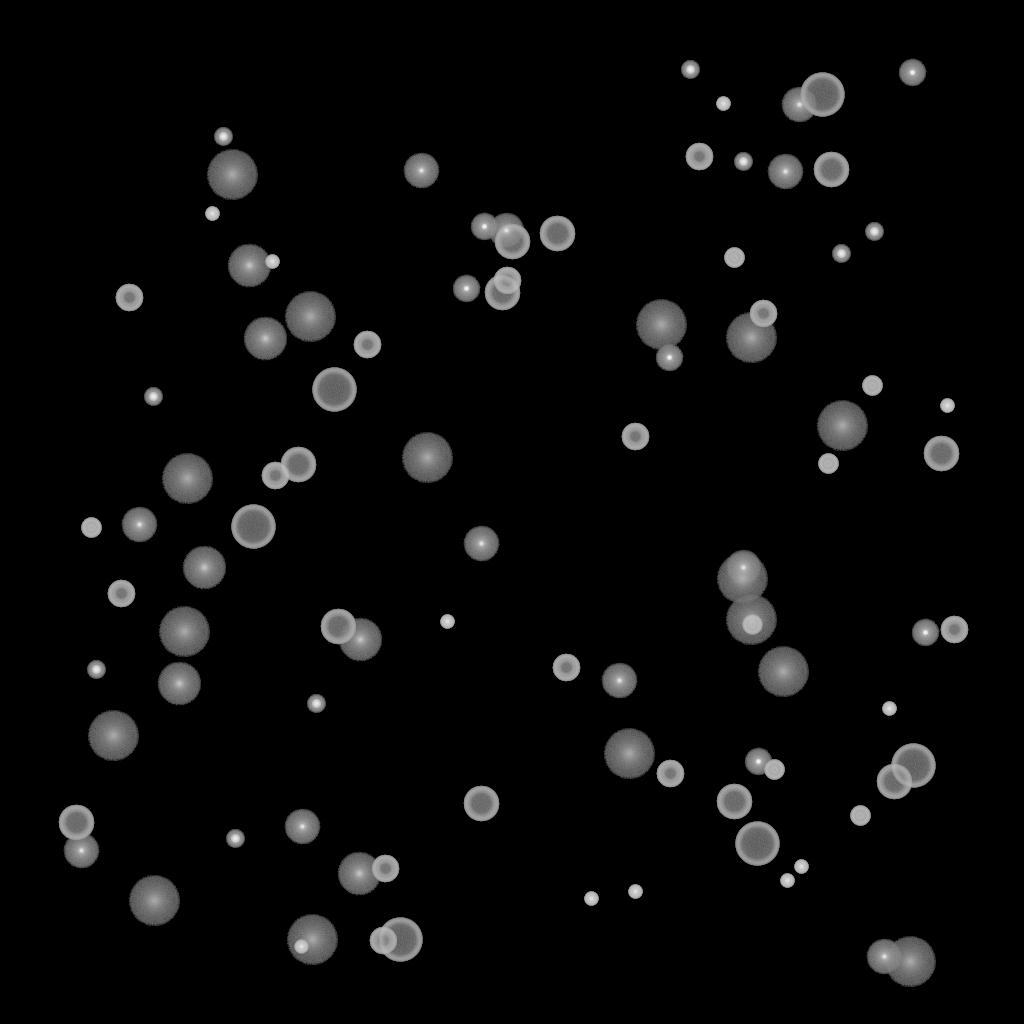depth:-10: (911, 619, 939, 647), (655, 344, 683, 372), (452, 275, 480, 303), (898, 59, 926, 87), (470, 213, 498, 241), (744, 748, 772, 776)
depth:-20: (226, 830, 244, 848), (832, 245, 850, 263), (865, 223, 883, 241), (214, 128, 232, 146), (734, 153, 752, 171), (681, 61, 699, 79), (87, 661, 105, 679), (144, 388, 162, 406), (307, 695, 325, 713)
depth:-30: (265, 255, 279, 269), (940, 399, 954, 413), (780, 874, 794, 888), (882, 702, 896, 716), (628, 885, 642, 899), (294, 940, 308, 954), (584, 892, 598, 906), (716, 97, 730, 111), (794, 860, 808, 874), (440, 615, 454, 629), (205, 207, 219, 221)
depth:-40: (764, 760, 784, 780), (850, 806, 870, 826), (724, 248, 744, 268), (818, 454, 838, 474), (862, 376, 882, 396), (742, 615, 762, 635), (81, 518, 101, 538)
depth:-50: (749, 300, 777, 328), (685, 143, 713, 171), (552, 654, 580, 682), (261, 462, 289, 490), (107, 580, 135, 608), (940, 616, 968, 644), (371, 855, 399, 883), (369, 927, 397, 955), (621, 423, 649, 451), (493, 267, 521, 295), (656, 760, 684, 788), (115, 284, 143, 312), (353, 331, 381, 359)
depth:-60: (484, 275, 520, 311), (494, 224, 530, 260), (463, 786, 499, 822), (876, 764, 912, 800), (923, 436, 959, 472), (58, 805, 94, 841), (320, 609, 356, 645), (280, 447, 316, 483), (813, 152, 849, 188), (539, 216, 575, 252), (716, 784, 752, 820)
depth:-70: (231, 505, 275, 549), (891, 744, 935, 788), (735, 822, 779, 866), (378, 918, 422, 962), (800, 73, 844, 117), (312, 368, 356, 412)
depth:0: (866, 939, 902, 975), (284, 809, 320, 845), (781, 87, 817, 123), (403, 153, 439, 189), (601, 663, 637, 699), (767, 154, 803, 190), (488, 213, 524, 249), (725, 550, 761, 586), (121, 507, 157, 543), (63, 833, 99, 869), (463, 526, 499, 562)
depth:10: (227, 244, 271, 288), (337, 852, 381, 896), (338, 618, 382, 662), (243, 317, 287, 361), (182, 546, 226, 590), (157, 662, 201, 706)
depth:20: (884, 937, 936, 987), (158, 607, 210, 657), (725, 595, 777, 645), (87, 711, 139, 761), (816, 401, 868, 451), (635, 300, 687, 350), (757, 647, 809, 697), (716, 554, 768, 604), (128, 876, 180, 926), (401, 433, 453, 483), (206, 150, 258, 200), (286, 915, 338, 965), (725, 313, 777, 363), (603, 729, 655, 779), (161, 454, 213, 504), (284, 292, 336, 342)
